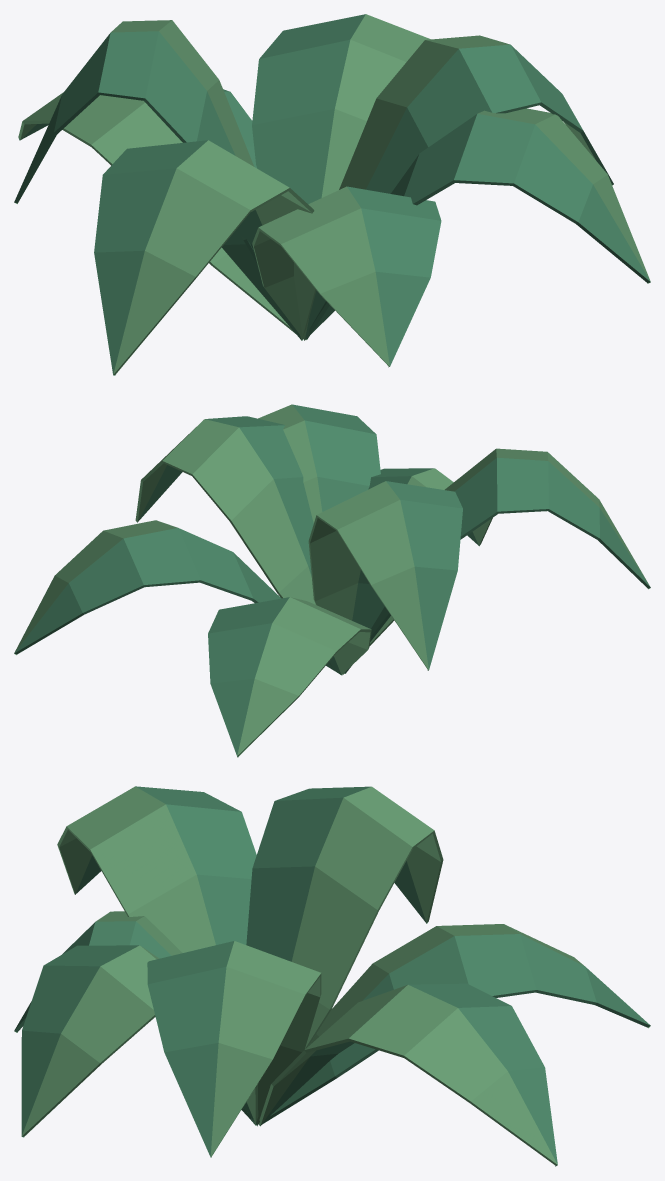
Rendered from understory-b.glb.
3 renders of one model, top to bottom at view 1: azimuth 30°, elevation 25°; view 2: azimuth 150°, elevation 25°; view 3: azimuth 270°, elevation 25°, orthographic. The views are drawn at different scales.
Parts seen in each view (by area): view 1: understory-b curled leaves; view 2: understory-b curled leaves; view 3: understory-b curled leaves.
Part boxes in pixels (box(x1,y1,x2,y2)): understory-b curled leaves: box(14, 14, 650, 375); understory-b curled leaves: box(14, 404, 650, 757); understory-b curled leaves: box(14, 786, 650, 1166).
Size of the model in its own units: 1.03 by 0.5131 by 1.05.
